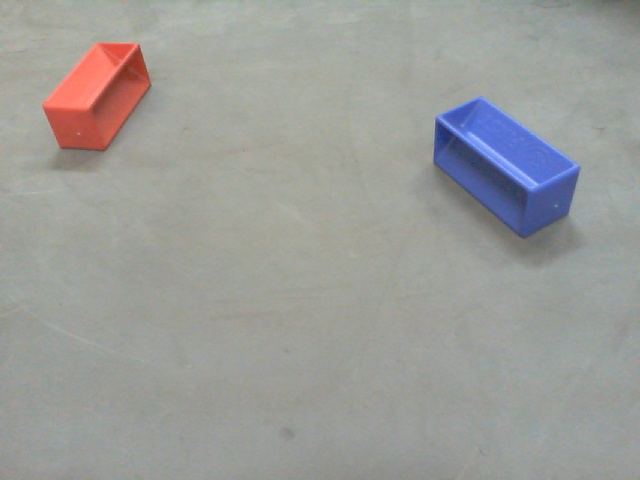BlueSample: (429, 95, 580, 244)
RedSample: (41, 36, 154, 151)
